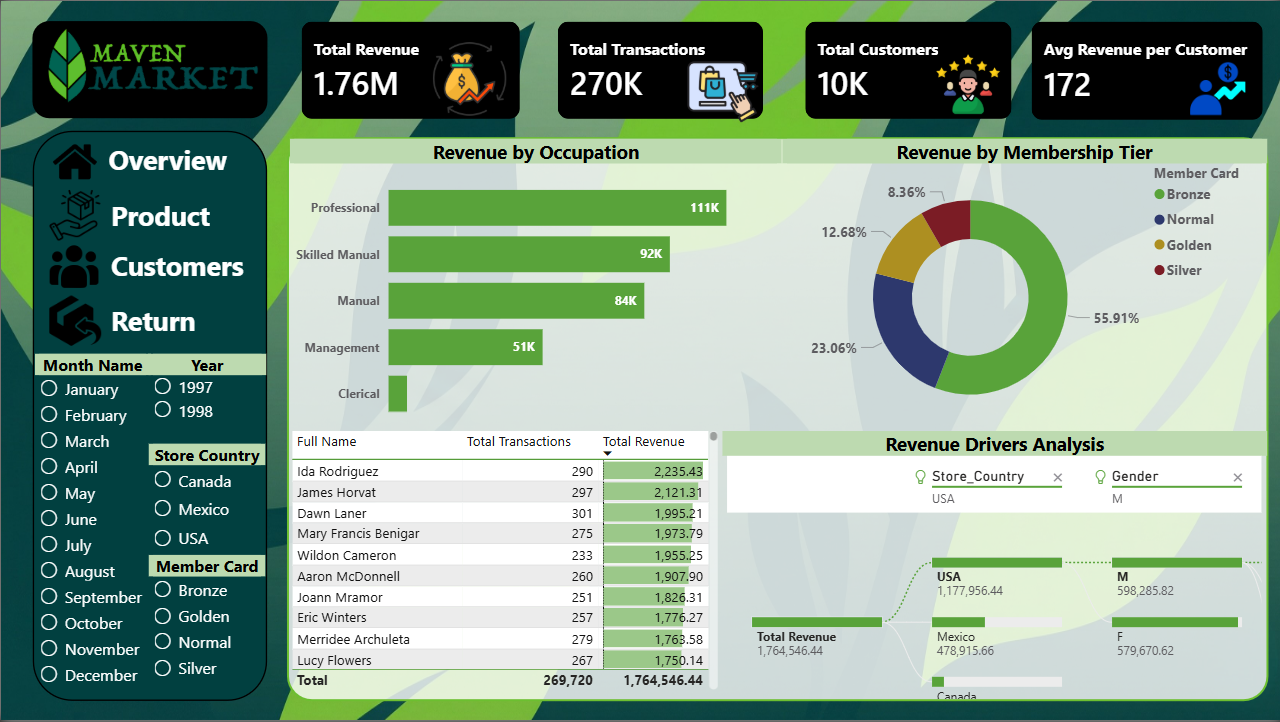

This screenshot's page, from the dashboard's own definition file:
{"tool":"powerbi","page":{"name":"Customers","canvas":[1280,720],"ordinal":2},"visuals":[{"type":"image","box":[41.2,17.5,220,93.8],"z":0},{"type":"image","box":[47.5,187.5,52.5,53.8],"z":0,"group":"g2"},{"type":"image","box":[46.2,241.2,53.8,48.8],"z":0,"group":"g3"},{"type":"image","box":[47.5,291.2,53.8,56.2],"z":0,"group":"g4"},{"type":"listSlicer","fields":{"Values":["Calendar.Month Name"]},"box":[33.6,353.1,115.9,336.1],"z":0,"group":"g9"},{"type":"group","id":"g1","title":"Group 1","box":[48.4,135.3,192.9,52.5],"z":1000},{"type":"image","box":[48.4,138.4,50,43.8],"z":1000,"group":"g1"},{"type":"textbox","box":[105,241.2,148.8,50],"z":1000,"group":"g3"},{"type":"textbox","box":[105,296.2,106.2,51.2],"z":1000,"group":"g4"},{"type":"listSlicer","fields":{"Values":["Calendar.Year"]},"box":[147.1,353,117.6,91.9],"z":1000,"group":"g9"},{"type":"textbox","box":[102.5,135.3,138.8,52.5],"z":2000,"group":"g1"},{"type":"actionButton","box":[45,138.8,196.2,43.8],"z":2000},{"type":"textbox","box":[104.7,190.9,133.8,48.8],"z":2003,"group":"g2"},{"type":"group","id":"g2","title":"Group 2","box":[47.5,187.5,191.2,53.8],"z":3000},{"type":"actionButton","box":[48.8,187.5,196.2,53.8],"z":4000},{"type":"group","id":"g3","title":"Group 3","box":[46.2,241.2,207.5,50],"z":5000},{"type":"actionButton","box":[45,241.2,208.8,50],"z":6000},{"type":"group","id":"g4","title":"Group 4","box":[47.5,291.2,163.8,56.2],"z":7000},{"type":"actionButton","box":[46.2,291.2,208.8,56.2],"z":8000},{"type":"cardVisual","fields":{"Data":["select","All Measures.Total Transactions"]},"box":[540.4,3.9,240,131.4],"z":9000,"group":"g7"},{"type":"group","id":"g5","title":"Group 5","box":[284.3,4.3,252.9,131.4],"z":9000},{"type":"cardVisual","fields":{"Data":["All Measures.Total Revenue"]},"box":[284.3,4.3,252.9,131.4],"z":9000,"group":"g5"},{"type":"group","id":"g6","title":"Group 6","box":[1014.1,3.4,265.9,133],"z":10000},{"type":"cardVisual","fields":{"Data":["All Measures.Avg Revenue per Customer"]},"box":[1014.1,3.4,265.4,132.3],"z":10000,"group":"g6"},{"type":"cardVisual","fields":{"Data":["All Measures.Total Customers"]},"box":[787.4,3.9,240,131.4],"z":10000,"group":"g8"},{"type":"group","id":"g7","title":"Group 7","box":[540.4,3.9,240.5,131.9],"z":11000},{"type":"group","id":"g8","title":"Group 8","box":[787.4,3.9,240,131.4],"z":12000},{"type":"image","box":[415.3,39.6,107.1,78.6],"z":12001,"group":"g5"},{"type":"image","box":[1179.3,59.4,75.4,55.4],"z":12003,"group":"g6"},{"type":"image","box":[685,50.6,73.7,81.5],"z":13000,"group":"g7"},{"type":"tableEx","fields":{"Values":["Customers.Full Name","All Measures.Total Transactions","All Measures.Total Revenue"]},"box":[284.4,430.5,437,258.6],"z":13000},{"type":"image","box":[927.8,50.2,78.9,66.5],"z":13002,"group":"g8"},{"type":"donutChart","title":"Revenue by Membership Tier","fields":{"Y":["All Measures.Total Revenue"],"Category":["Customers.Member_Card"]},"box":[781,137.5,484.5,293],"z":14000},{"type":"barChart","title":"Revenue by Occupation","fields":{"Y":["All Measures.Total Revenue"],"Category":["Customers.Occupation"]},"box":[288.5,137.5,492.4,293],"z":15000},{"type":"group","id":"g9","title":"Group 9","box":[33.6,353,231.1,336.1],"z":16000},{"type":"listSlicer","title":"Member Card","fields":{"Values":["Customers.Member_Card"]},"box":[147.1,554,117.1,128.6],"z":16001,"group":"g9"},{"type":"decompositionTreeVisual","title":"Revenue Drivers Analysis","fields":{"Analyze":["All Measures.Total Revenue"],"ExplainBy":["Stores.Store_Country","Customers.Gender","Stores.Store_State","Customers.Occupation"]},"box":[721.5,430.5,544.5,267.5],"z":17000},{"type":"listSlicer","title":"Store Country","fields":{"Values":["Stores.Store_Country"]},"box":[147.1,443.5,117.1,110],"z":19000,"group":"g9"}]}

Visuals, with their boxes in screenshot pixels (x1, y1, x2, y2), scaled from the page's 1280x720 canvas onto the 1280x722 screenshot:
image: select_region(41, 18, 261, 112)
image: select_region(48, 188, 100, 242)
image: select_region(46, 242, 100, 291)
image: select_region(48, 292, 101, 348)
listSlicer - Calendar.Month Name: select_region(34, 354, 150, 691)
"Group 1" group: select_region(48, 136, 241, 188)
image: select_region(48, 139, 98, 183)
textbox: select_region(105, 242, 254, 292)
textbox: select_region(105, 297, 211, 348)
listSlicer - Calendar.Year: select_region(147, 354, 265, 446)
textbox: select_region(102, 136, 241, 188)
actionButton: select_region(45, 139, 241, 183)
textbox: select_region(105, 191, 238, 240)
"Group 2" group: select_region(48, 188, 239, 242)
actionButton: select_region(49, 188, 245, 242)
"Group 3" group: select_region(46, 242, 254, 292)
actionButton: select_region(45, 242, 254, 292)
"Group 4" group: select_region(48, 292, 211, 348)
actionButton: select_region(46, 292, 255, 348)
cardVisual - select x All Measures.Total Transactions: select_region(540, 4, 780, 136)
"Group 5" group: select_region(284, 4, 537, 136)
cardVisual - All Measures.Total Revenue: select_region(284, 4, 537, 136)
"Group 6" group: select_region(1014, 3, 1279, 137)
cardVisual - All Measures.Avg Revenue per Customer: select_region(1014, 3, 1279, 136)
cardVisual - All Measures.Total Customers: select_region(787, 4, 1027, 136)
"Group 7" group: select_region(540, 4, 781, 136)
"Group 8" group: select_region(787, 4, 1027, 136)
image: select_region(415, 40, 522, 119)
image: select_region(1179, 60, 1255, 115)
image: select_region(685, 51, 759, 132)
tableEx - Customers.Full Name x All Measures.Total Transactions: select_region(284, 432, 721, 691)
image: select_region(928, 50, 1007, 117)
"Revenue by Membership Tier" donutChart: select_region(781, 138, 1266, 432)
"Revenue by Occupation" barChart: select_region(288, 138, 781, 432)
"Group 9" group: select_region(34, 354, 265, 691)
"Member Card" listSlicer: select_region(147, 556, 264, 684)
"Revenue Drivers Analysis" decompositionTreeVisual: select_region(722, 432, 1266, 700)
"Store Country" listSlicer: select_region(147, 445, 264, 555)
